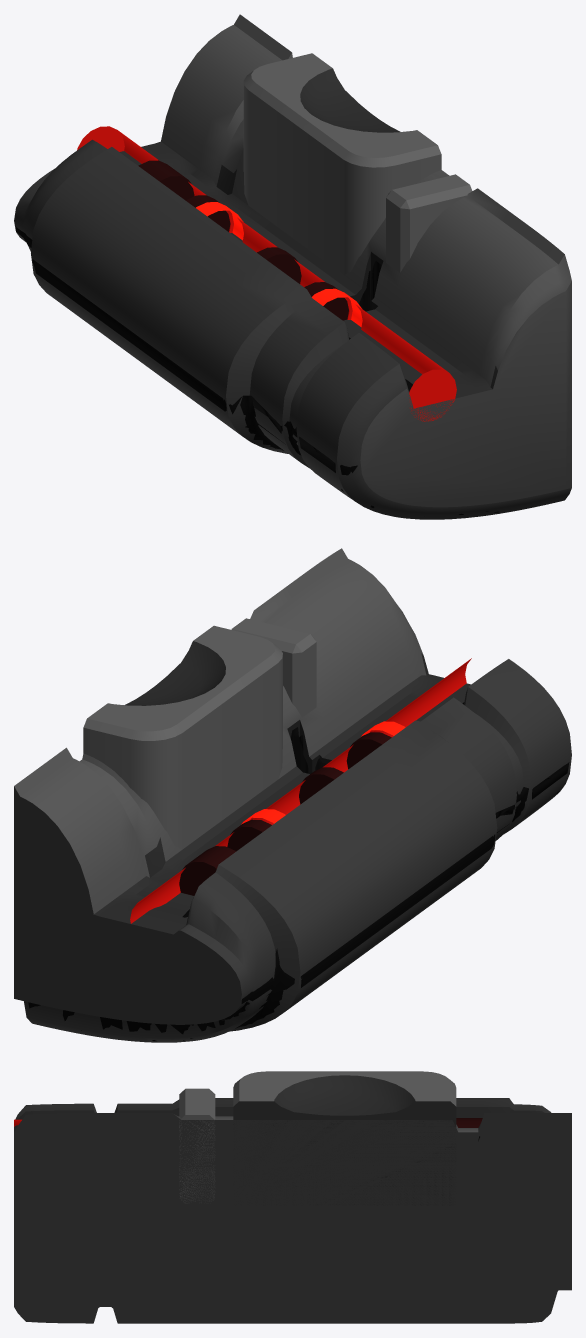
Rendered from newshl-39.glb.
3 views of the same model, one above another, from view 1: azimuth 30°, elevation 25°; view 2: azimuth 150°, elevation 25°; view 3: azimuth 270°, elevation 25° (orthographic). The views are drawn at different scales.
Parts seen in each view (by area): view 1: newshl-39, newshl-39_outline; view 2: newshl-39, newshl-39_outline; view 3: newshl-39.
Part boxes in pixels (left/top/right/bottom): newshl-39: left=14, top=14, right=571, bottom=519; newshl-39_outline: left=15, top=227, right=532, bottom=514; newshl-39: left=14, top=548, right=571, bottom=1042; newshl-39_outline: left=28, top=702, right=569, bottom=1041; newshl-39: left=14, top=1071, right=571, bottom=1323.
Size of the model in its own units: 1 by 1.02 by 2.33.
